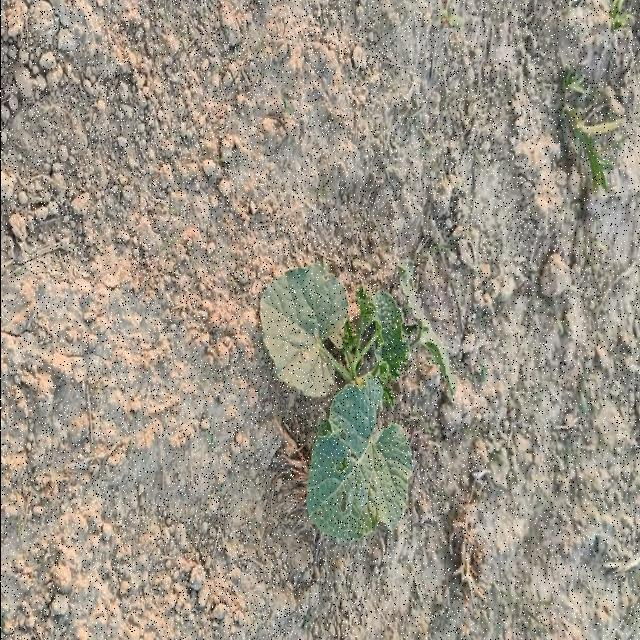plant: (259, 264, 454, 541)
